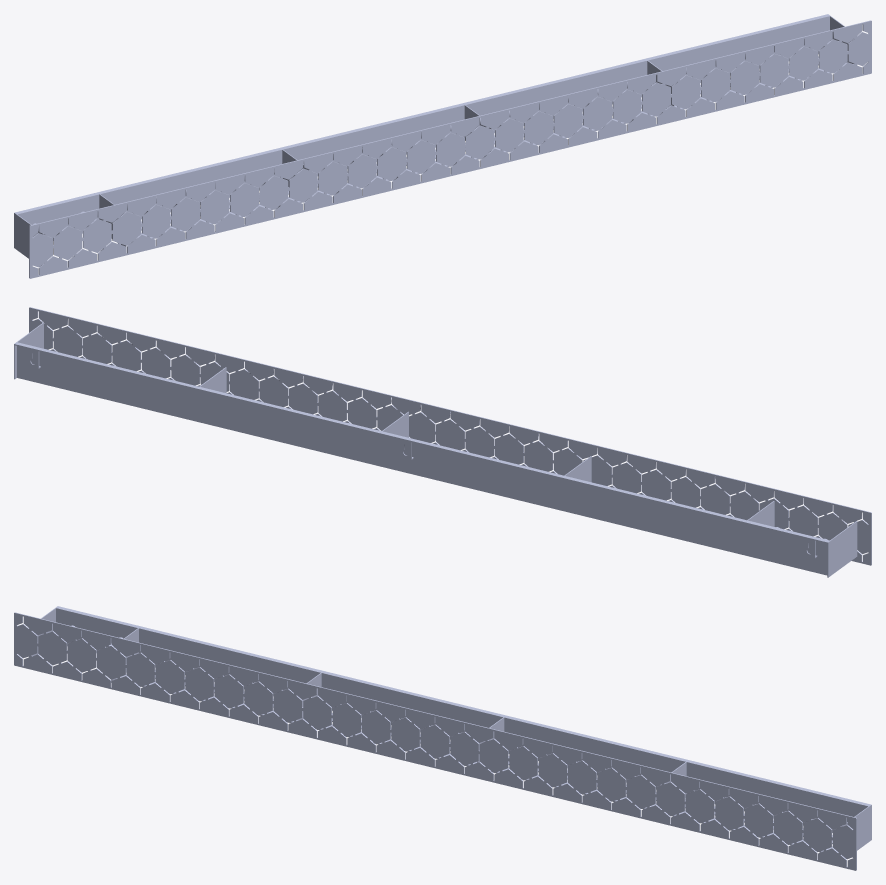
Rendered from bee-patron.6325cd03d1.glb.
3 views of the same model, one above another, from view 1: azimuth 30°, elevation 25°; view 2: azimuth 150°, elevation 25°; view 3: azimuth 330°, elevation 25° (orthographic).
Parts seen in each view (by area): view 1: NAUO1; view 2: NAUO1; view 3: NAUO1.
Boxes of the visible parts, x1,y1,x2,y2 form: NAUO1: (14,14,871,278); NAUO1: (14,307,871,577); NAUO1: (14,606,871,870).
Bounding box in the file's own units: 1.5 × 0.0899 × 0.0919.
